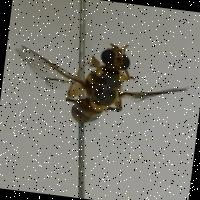Oriental-fruit-fly: (1, 17, 198, 142)
